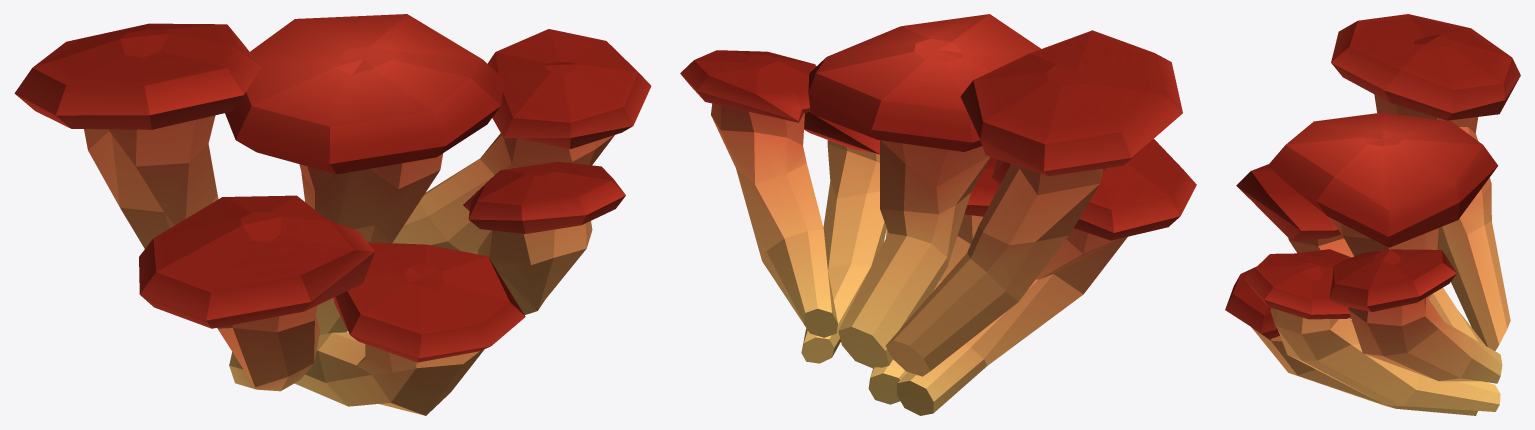
File: Firetop.fbx
The picture shows the model from 3 angles, left to right: view 1: azimuth 30°, elevation 25°; view 2: azimuth 150°, elevation 25°; view 3: azimuth 270°, elevation 25°; orthographic projection. The views are drawn at different scales.
Visible parts, largest first — view 1: Cube.033; view 2: Cube.033; view 3: Cube.033.
Boxes of the visible parts, x1=… form: Cube.033: x1=14, y1=14, x2=651, y2=415; Cube.033: x1=680, y1=14, x2=1196, y2=415; Cube.033: x1=1225, y1=14, x2=1520, y2=415.
Bounding box in the file's own units: 511 × 351 × 303.
